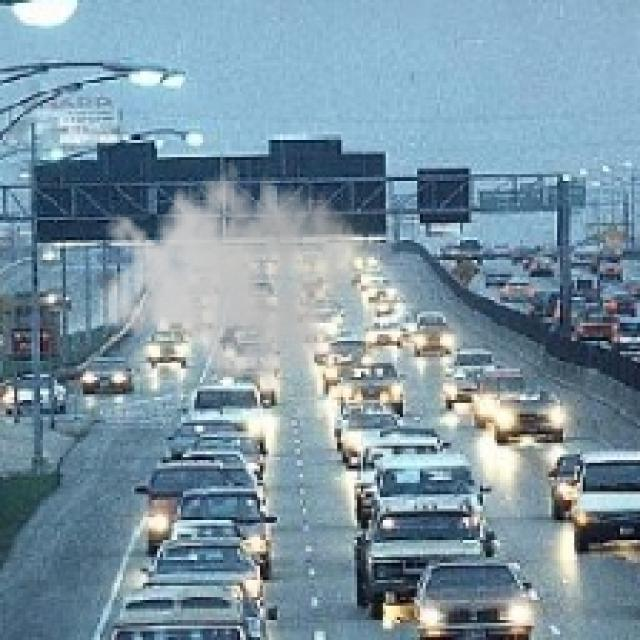Smoke: (94, 148, 360, 398)
